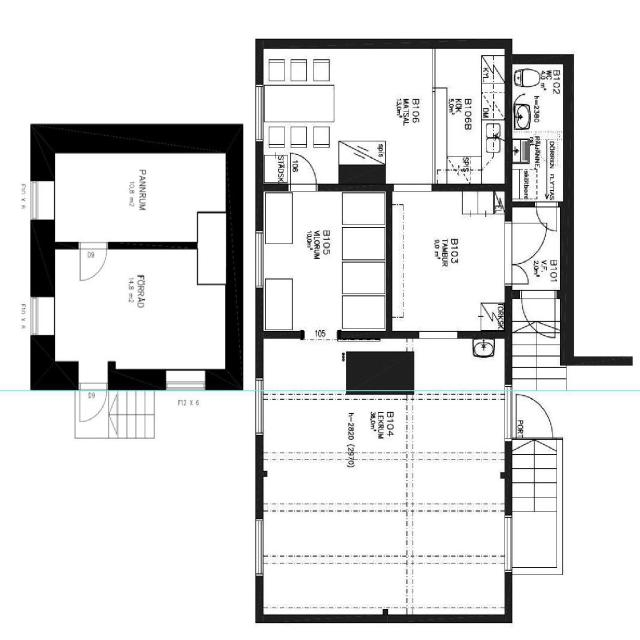door: (513, 231, 554, 335), (502, 217, 545, 288), (512, 392, 556, 441), (518, 288, 560, 334), (74, 379, 111, 428), (75, 238, 110, 284), (286, 148, 320, 194), (533, 199, 561, 235), (506, 262, 532, 286)
window: (158, 366, 214, 396), (26, 175, 52, 227), (251, 223, 268, 296), (500, 511, 517, 581), (251, 513, 267, 584), (26, 292, 49, 341), (252, 81, 268, 146), (252, 377, 268, 442), (411, 326, 461, 342), (389, 178, 438, 194)
zone: (259, 49, 452, 183), (44, 247, 228, 383), (258, 186, 389, 337), (387, 186, 508, 333), (49, 151, 229, 246), (510, 60, 566, 203), (195, 213, 227, 286)
